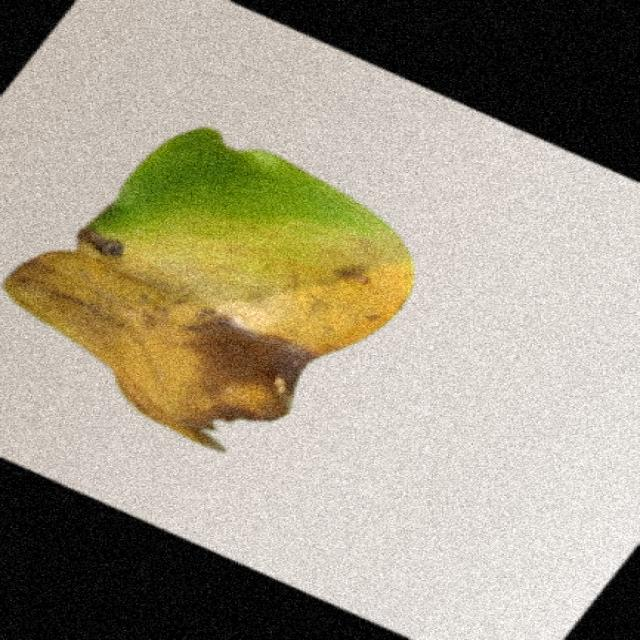daun berpenyakit kuning: (5, 128, 413, 449)
